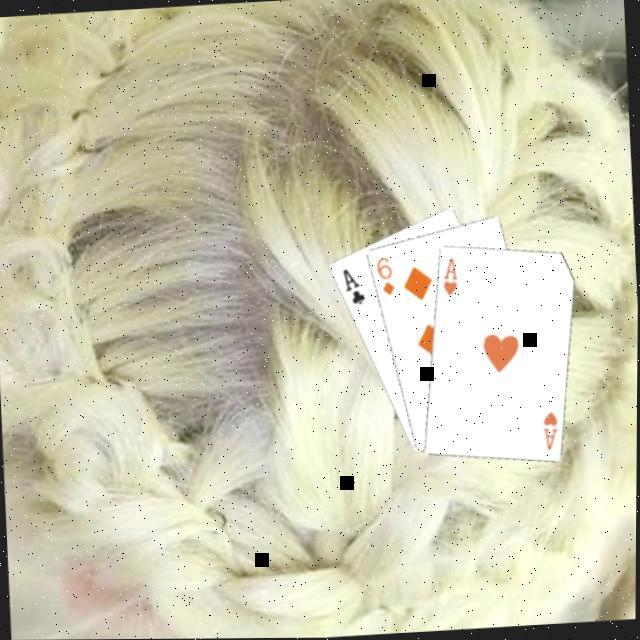6D: (374, 252, 400, 297)
AC: (342, 263, 370, 306)
AH: (541, 407, 564, 452), (441, 252, 463, 298)
